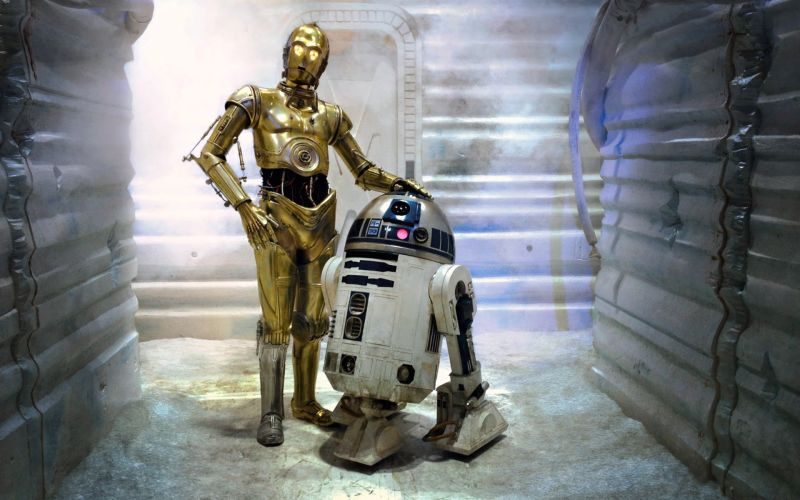r2d2: (320, 190, 509, 467)
